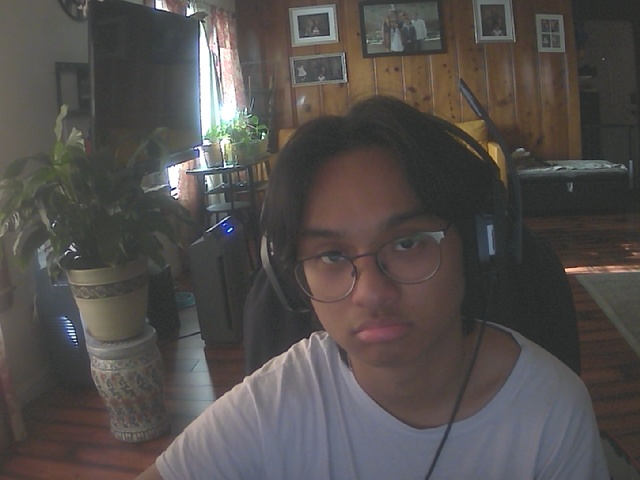sad: (289, 142, 469, 368)
